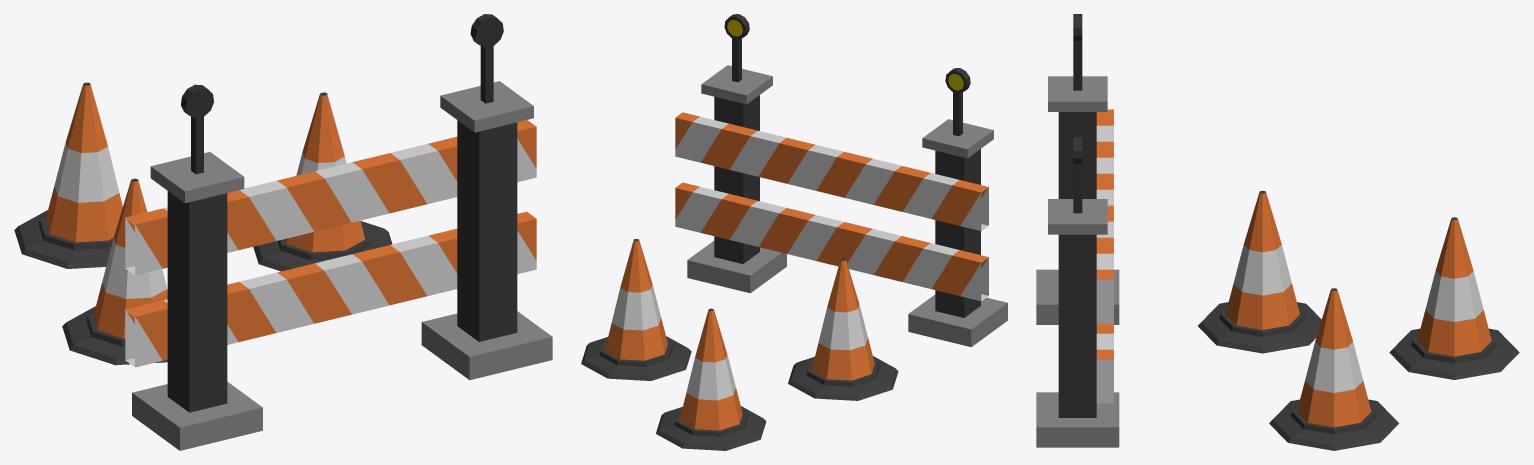
Rendered from D1_CONSTRUCTION_SITE_3.fbx.
3 renders of one model, left to right at view 1: azimuth 30°, elevation 25°; view 2: azimuth 150°, elevation 25°; view 3: azimuth 270°, elevation 25°, orthographic. The views are drawn at different scales.
Visible parts, largest first — view 1: Escenario_en_construccion_3; view 2: Escenario_en_construccion_3; view 3: Escenario_en_construccion_3.
Boxes of the visible parts, box(x1,y1,x2,y2) form: Escenario_en_construccion_3: box(14, 14, 552, 450); Escenario_en_construccion_3: box(581, 14, 1007, 450); Escenario_en_construccion_3: box(1036, 14, 1519, 450).
Bounding box in the file's own units: 285 × 228 × 342.
